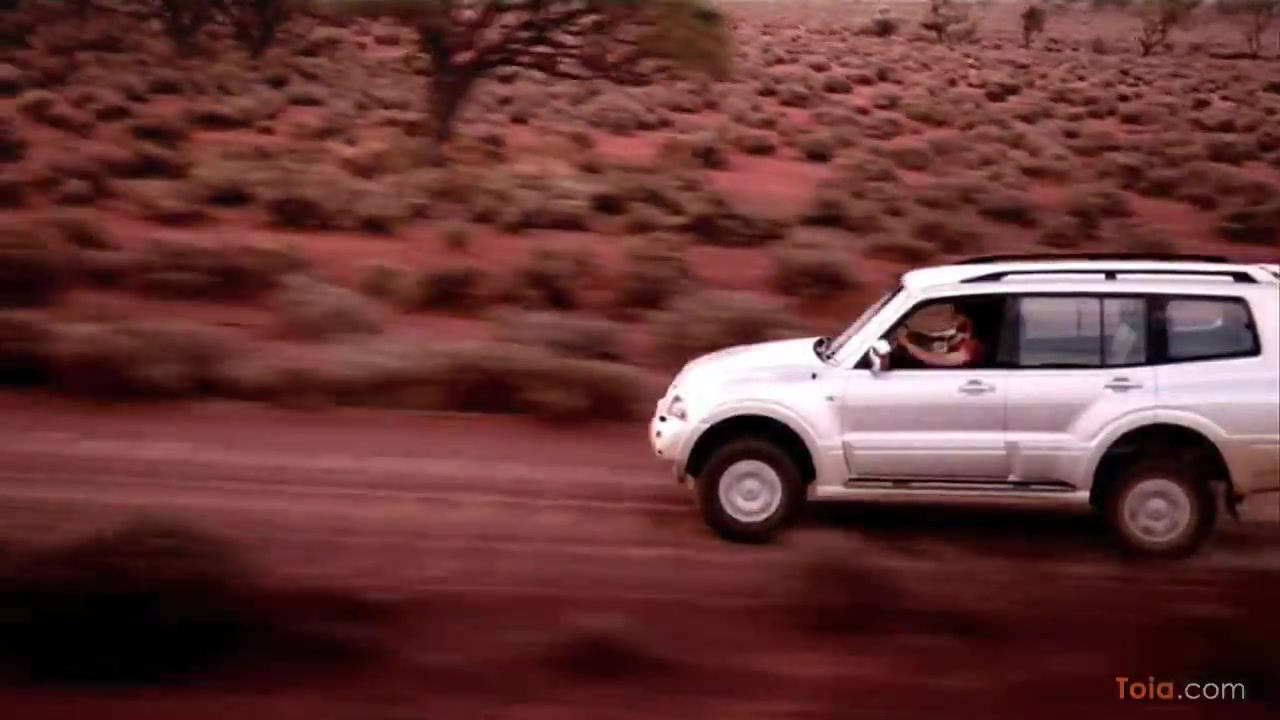car: (635, 258, 1280, 559)
